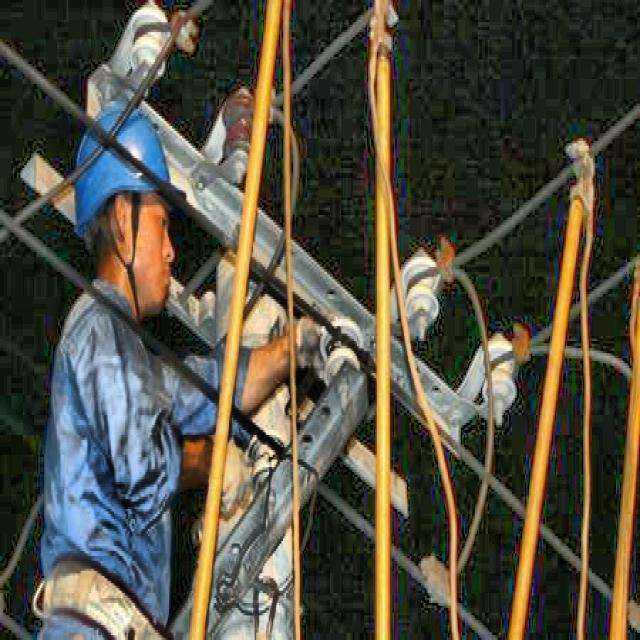helmet: (71, 109, 191, 314)
